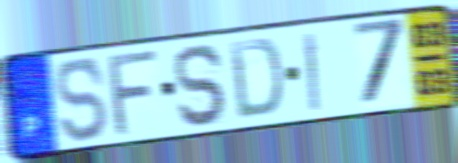7: (351, 15, 408, 110)
D: (227, 36, 285, 122)
F: (107, 46, 162, 140)
I: (302, 30, 323, 114)
S: (53, 55, 111, 146), (172, 42, 231, 129)
